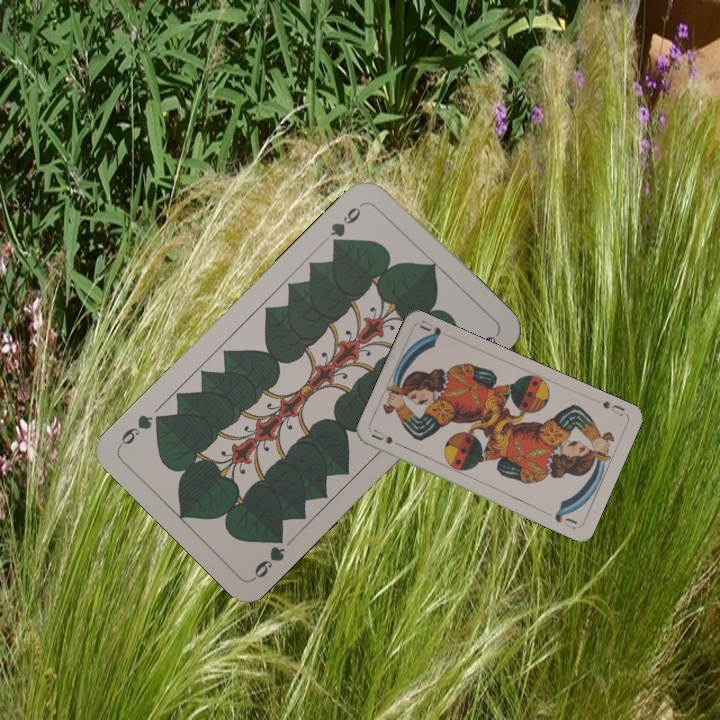G9: (325, 198, 368, 250), (249, 528, 288, 582)
SU: (368, 426, 408, 451), (598, 397, 629, 419)
